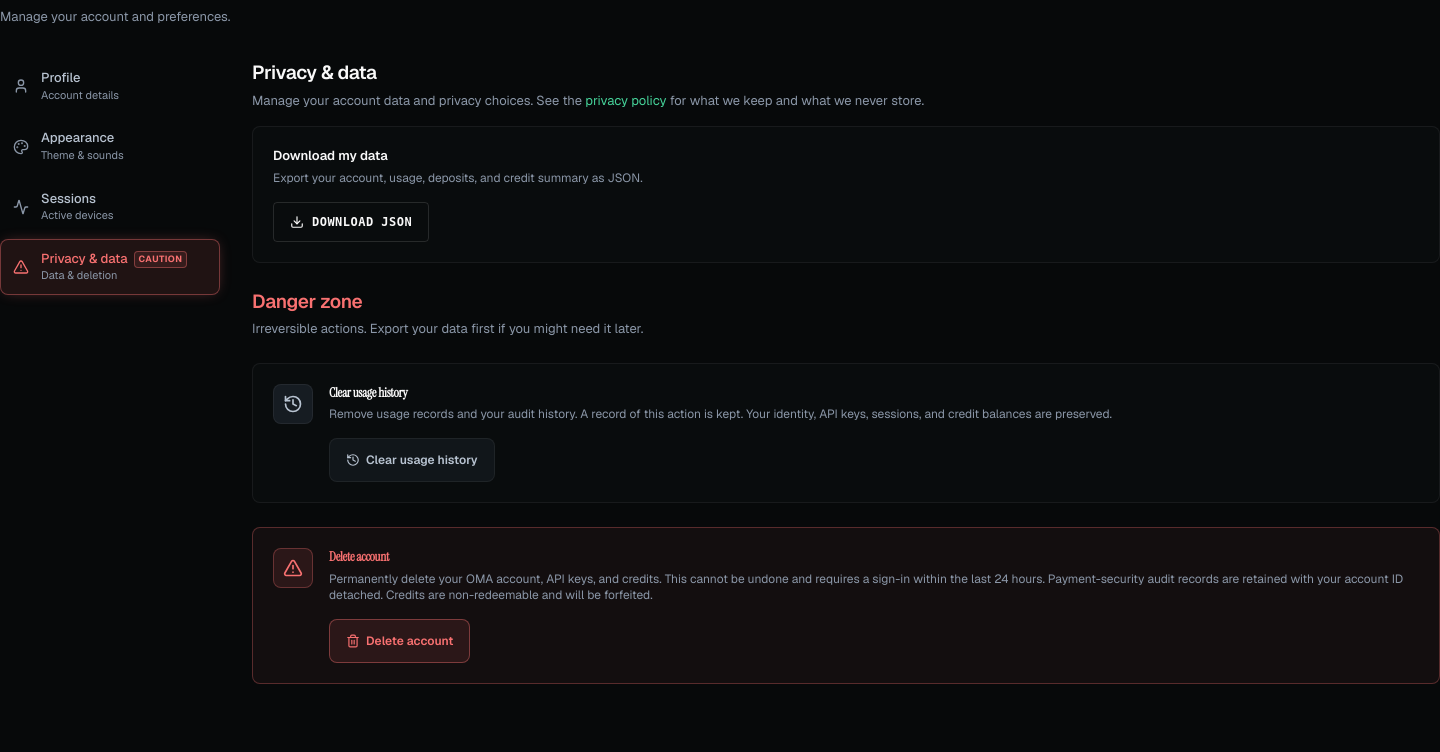
Test: settings account boundaries › navigates after confirmed deletion without waiting for a second sign-out request
This screenshot has width=1440, height=752.
Click the button "Delete account": [400, 641] box [329,619,470,663]
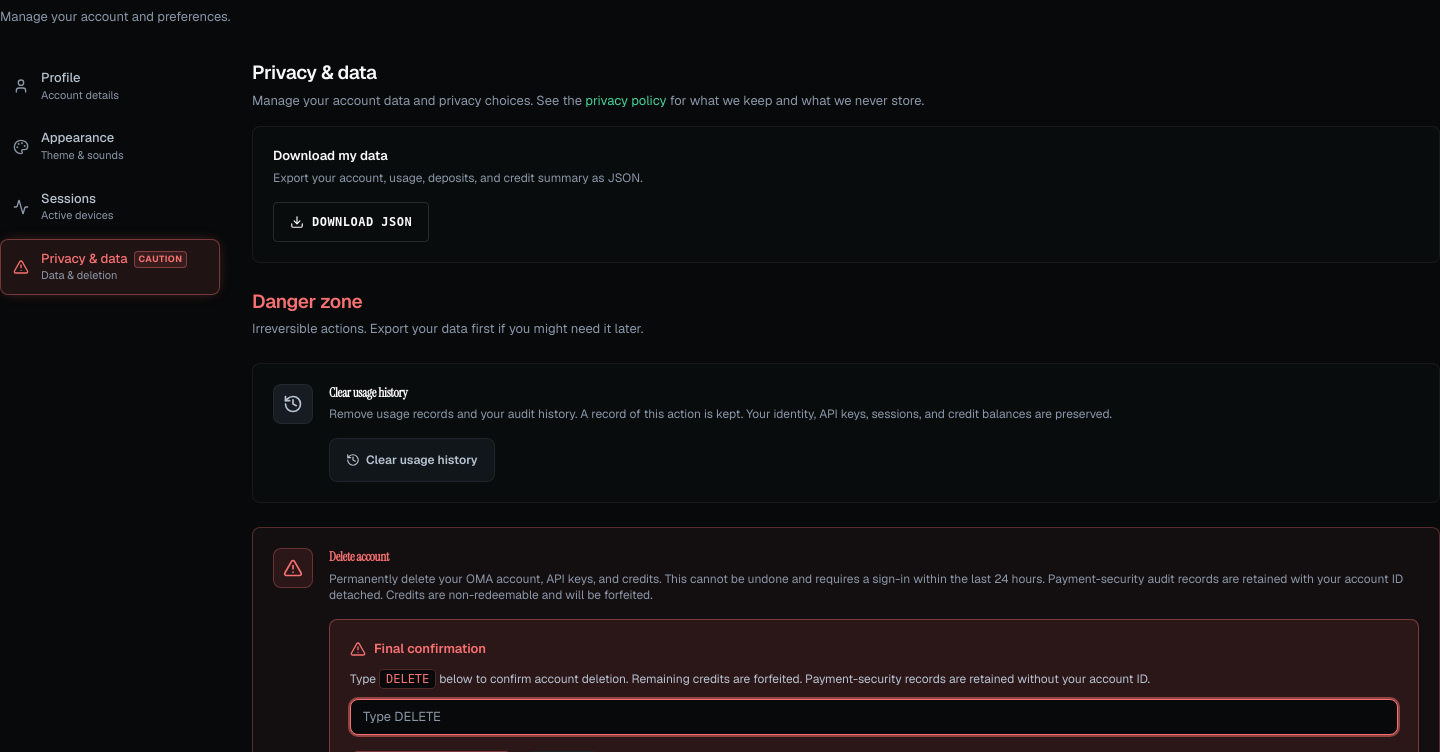
In the field named "Confirm by typing DELETE": [874, 717] box [350,699,1398,735], type "DELETE"
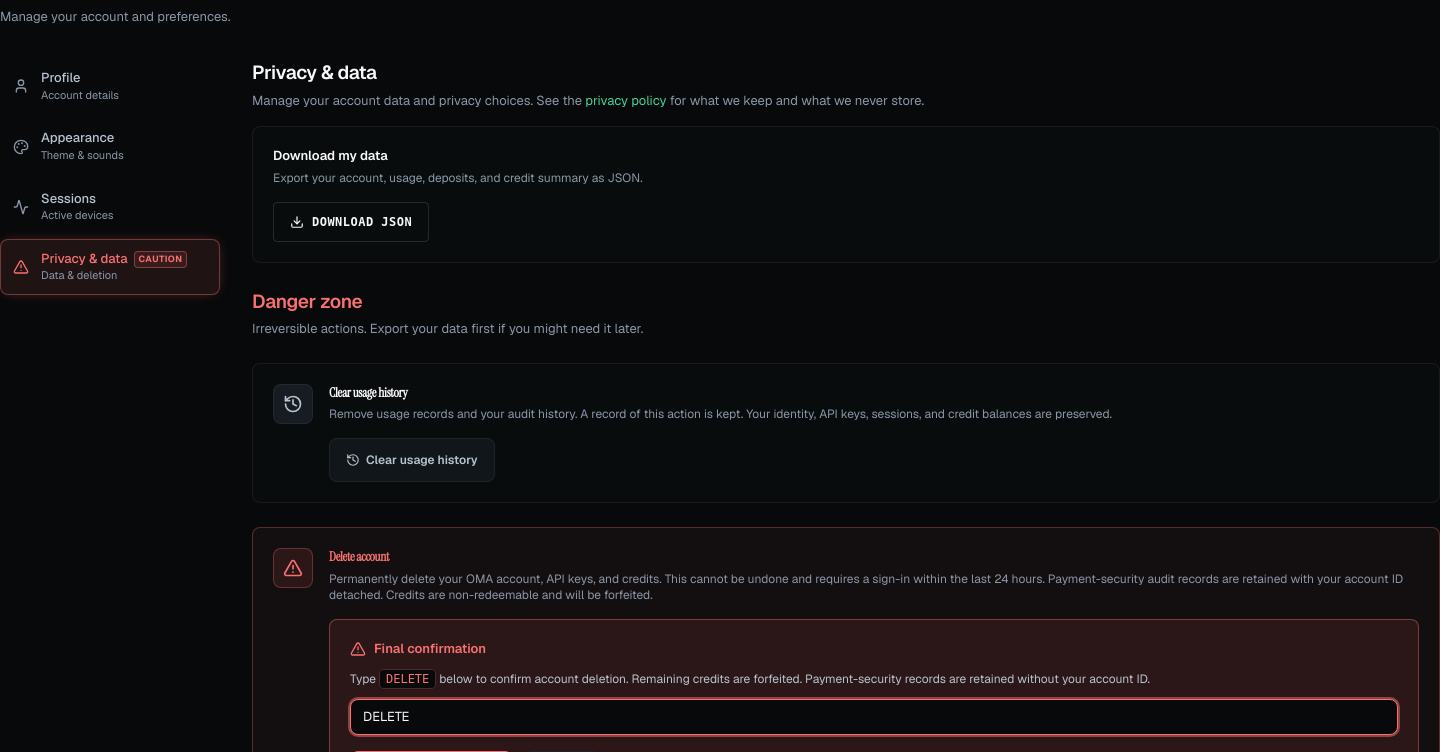
Press Enter in the field named "Confirm by typing DELETE", box [350,699,1398,735]
(page scrolled)
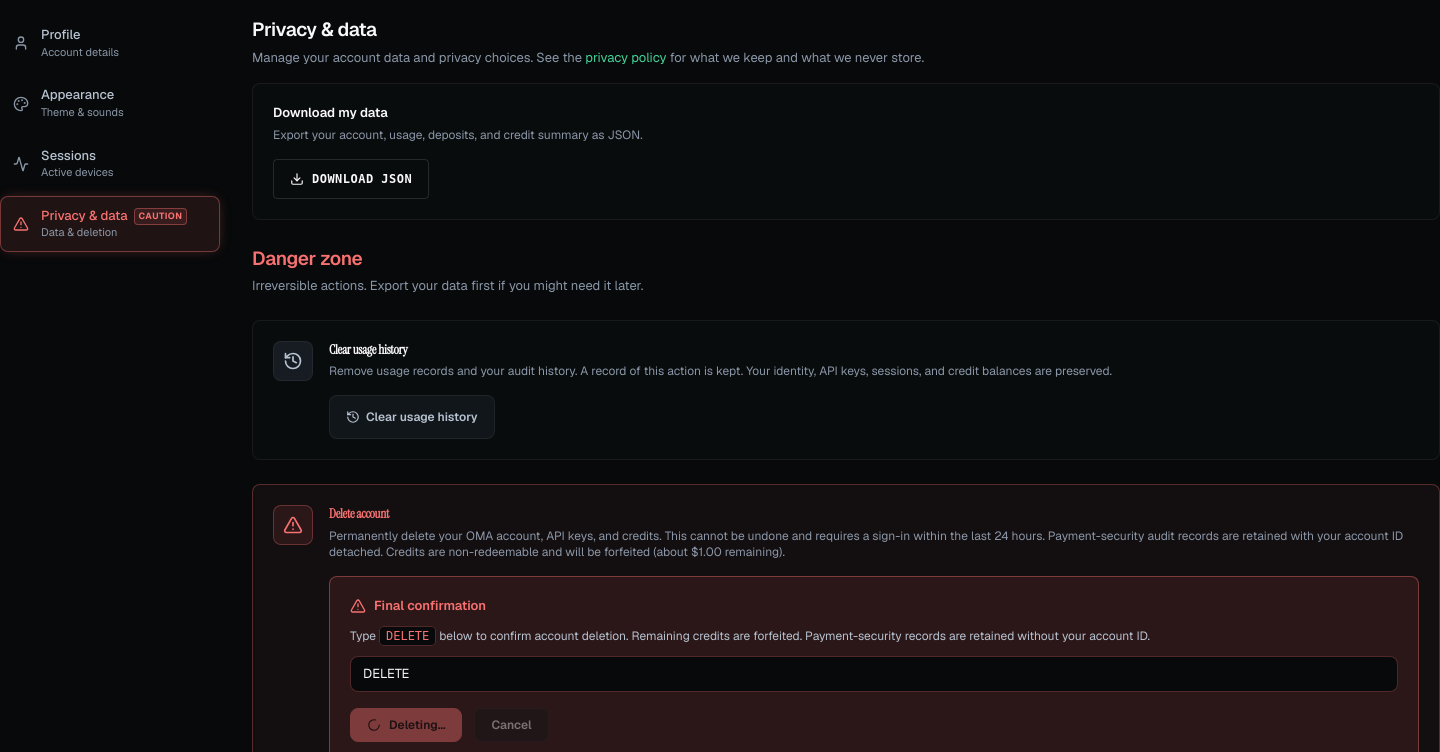
Expected: the button "Deleting…" is disabled, [350,708,462,742]
